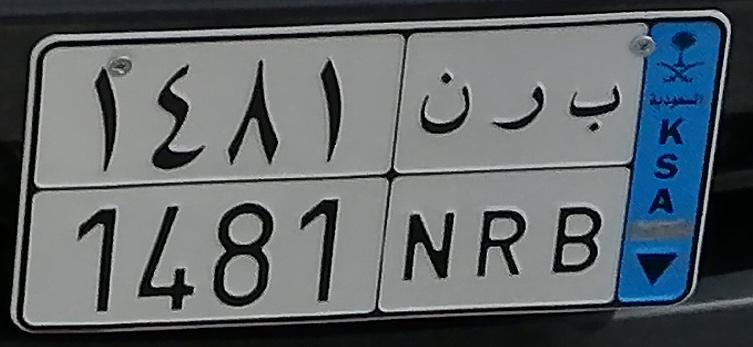1: (296, 54, 348, 308), (75, 62, 119, 317)
4: (133, 61, 205, 314)
8: (209, 54, 284, 308)
B: (549, 81, 623, 273)
N: (400, 67, 477, 286)
R: (476, 74, 546, 281)
